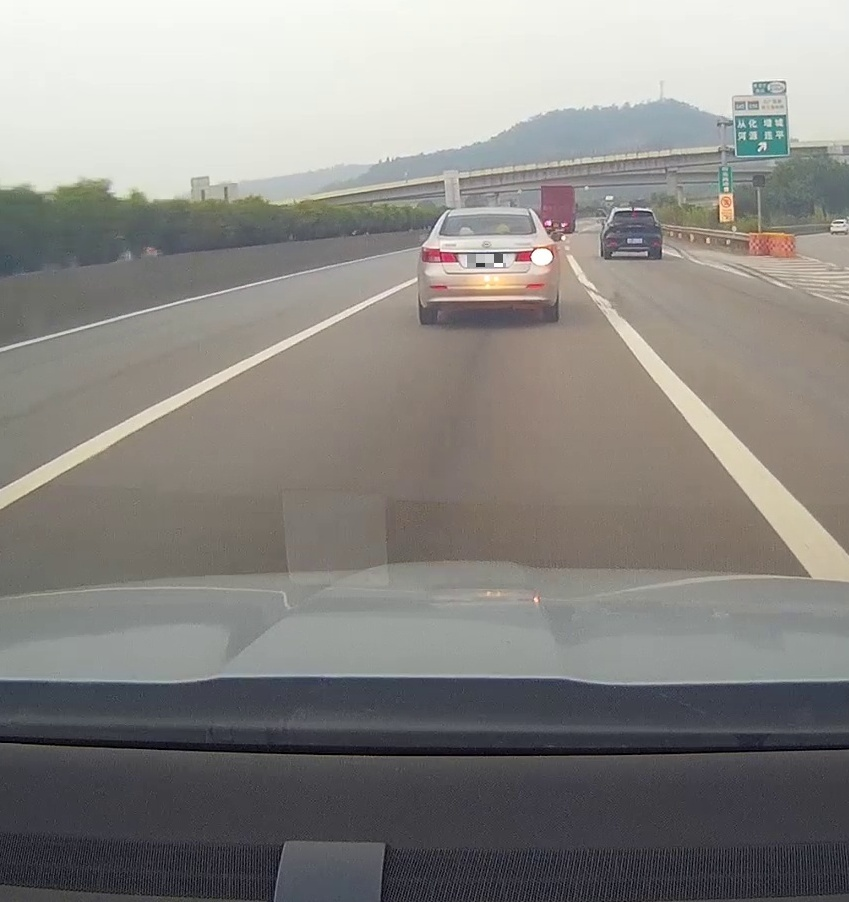L_light: (422, 247, 459, 263), (607, 222, 622, 226)
R_light: (514, 247, 554, 262), (647, 222, 659, 227)
T_light: (481, 213, 495, 217), (628, 212, 636, 214)
day-no: (602, 208, 662, 259)
day-right: (417, 207, 559, 325)
plate_1: (467, 254, 506, 267)
